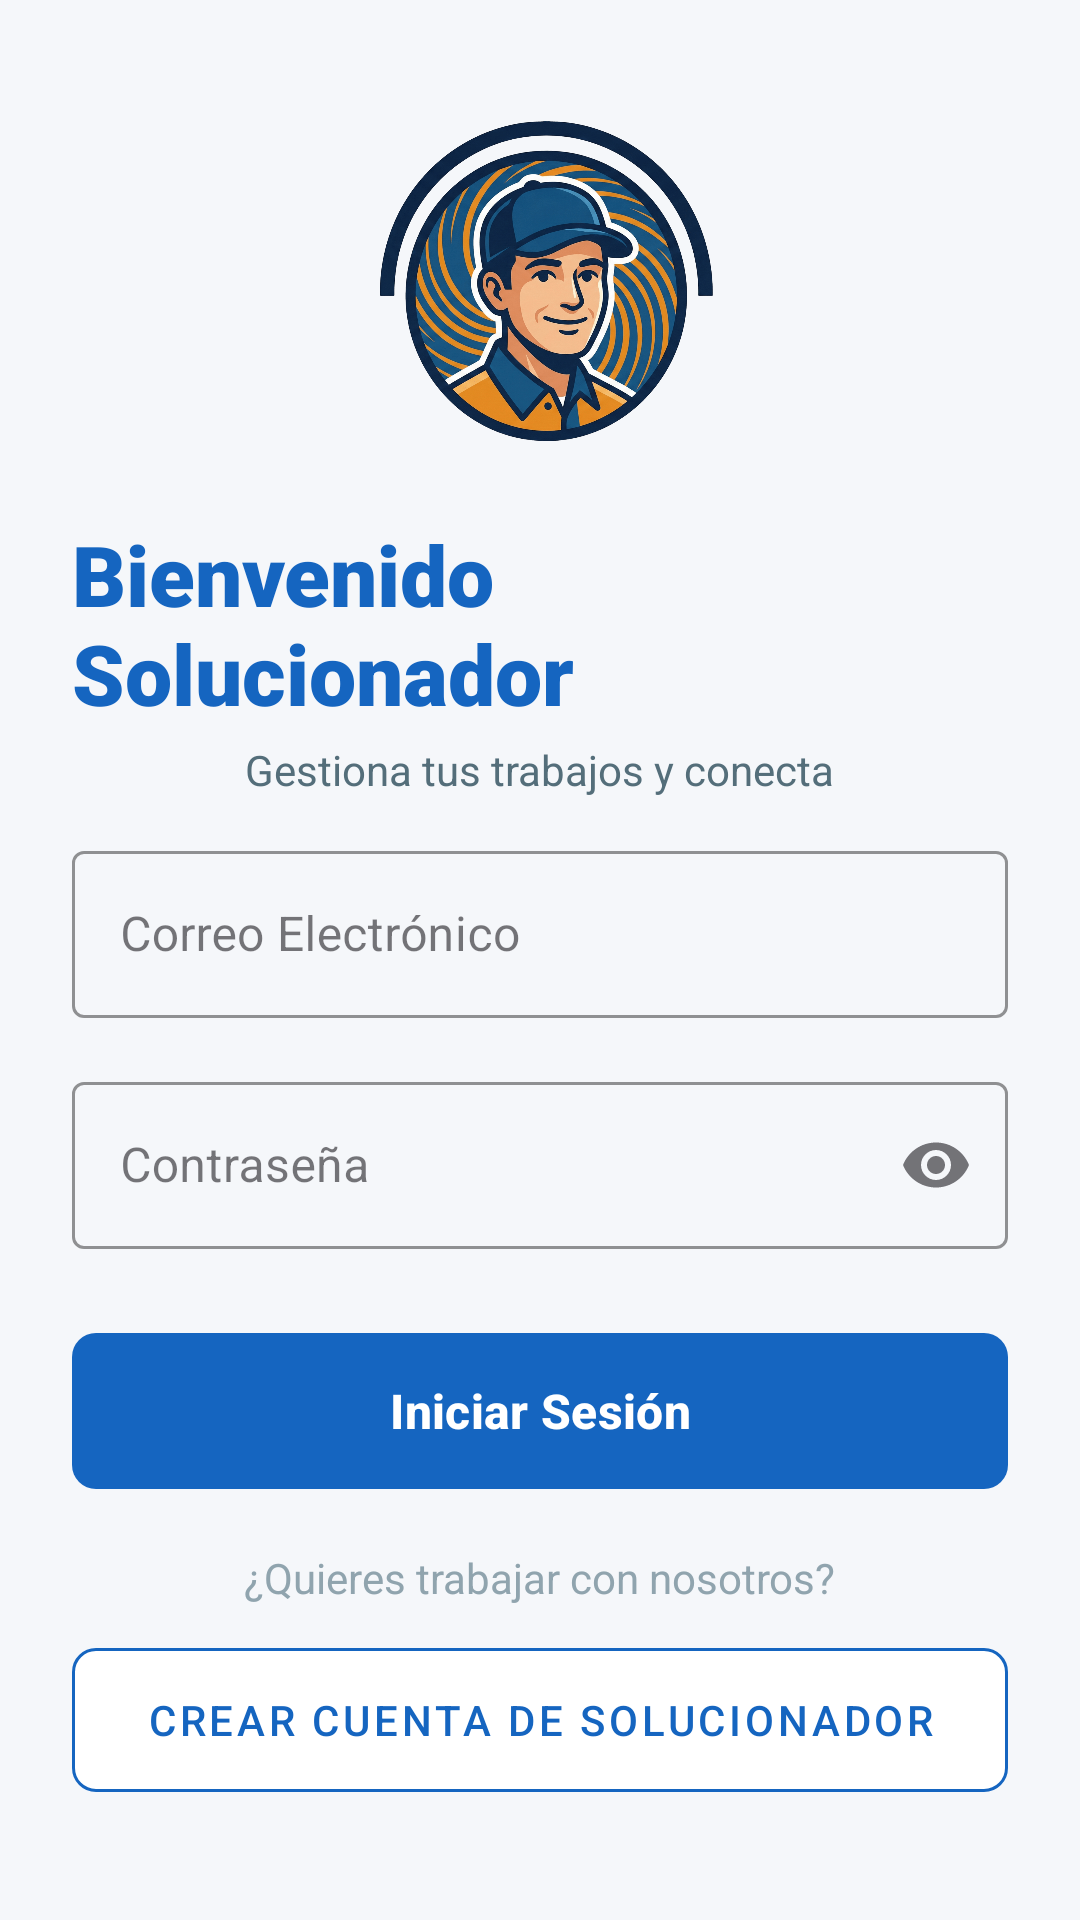

Named icons in this screenshot (1080px x 1920px) and their centers, point (x, y):
login solucionador: point (546, 281)
